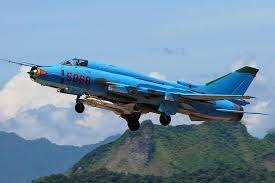maybay_muctieu: (18, 53, 262, 136)
